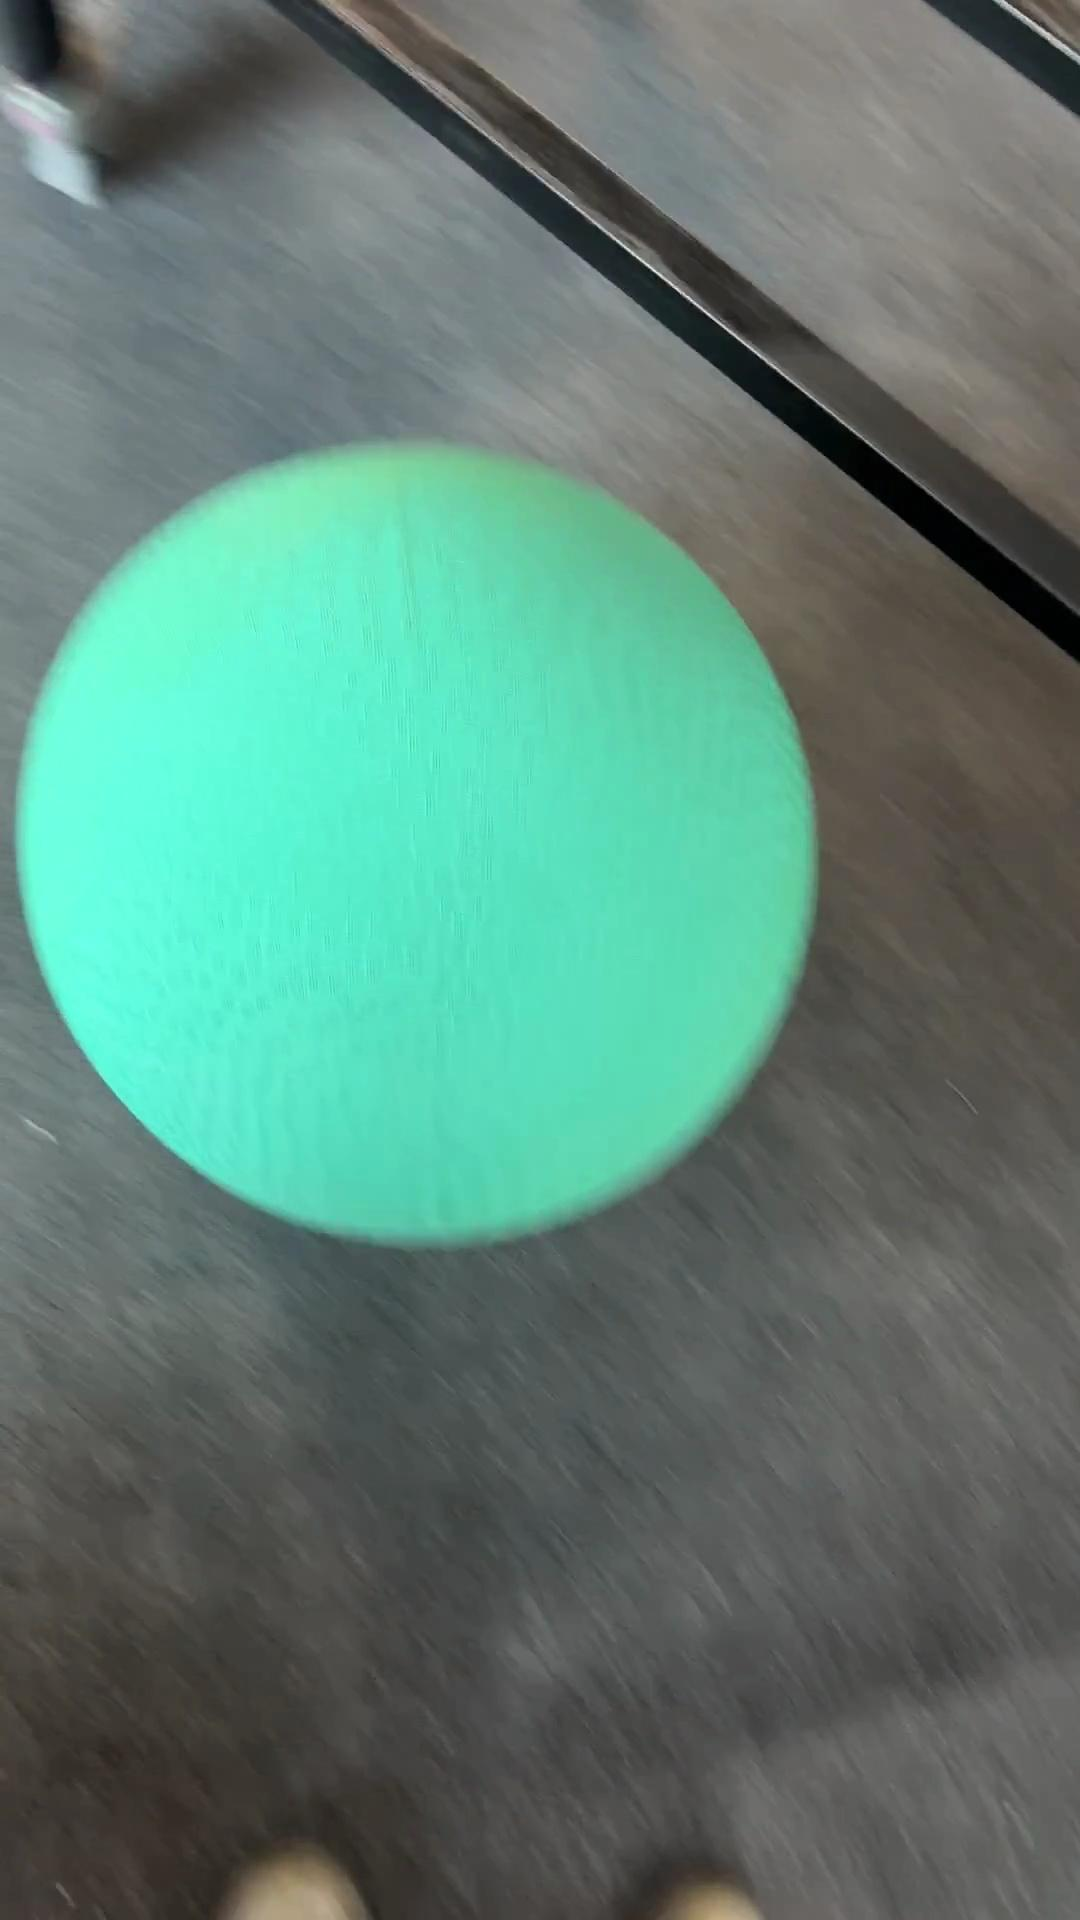ALGAE: (13, 438, 821, 1251)
